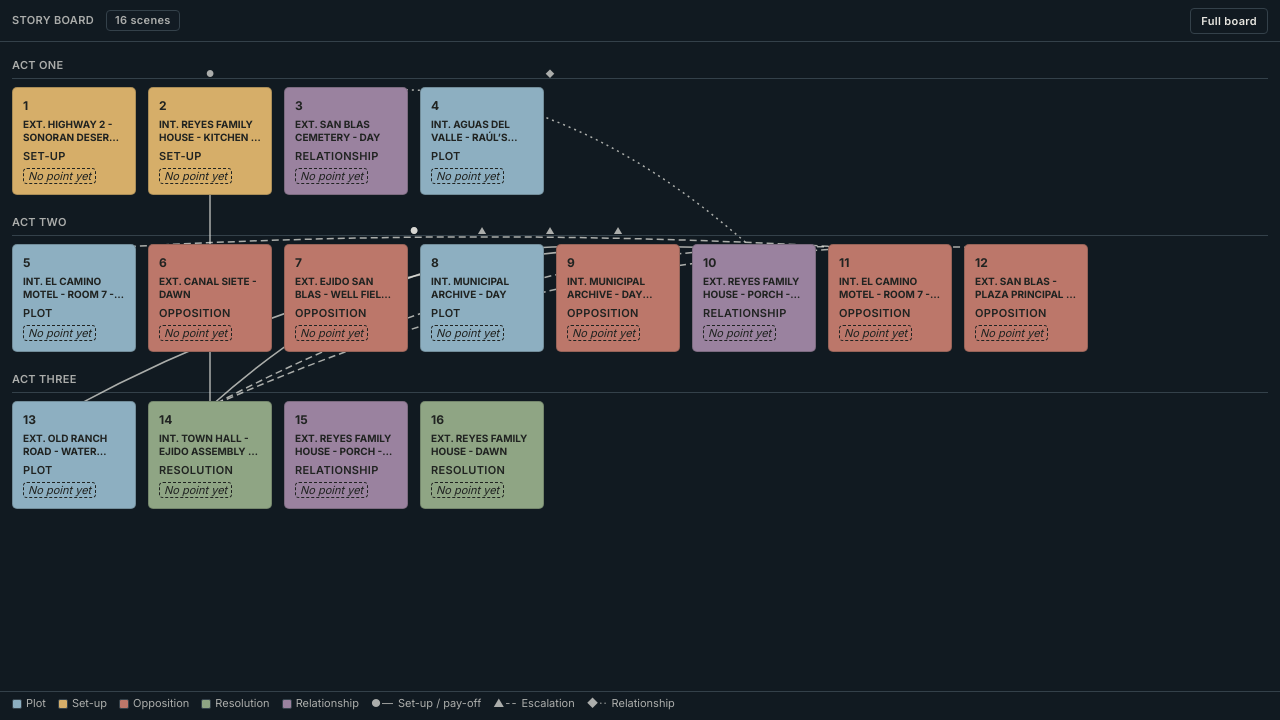
Test case: direct in-card scene point editing (no popover) › clicking the dotted chip turns it into an editable field inside the card itself
Click the 2nd button "No point yet" at (196,176), box [159,168,232,184]
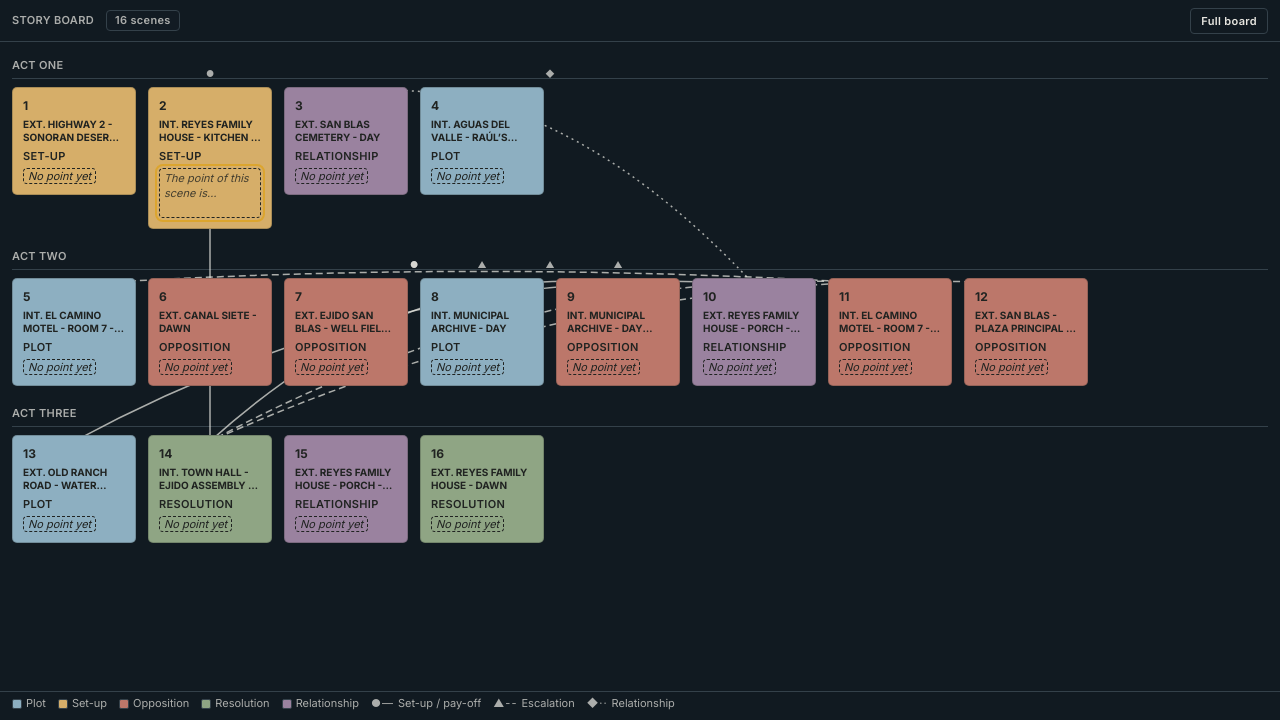
Now the text box with placeholder "The point of this scene is…" is shown, box [159,168,261,218]
